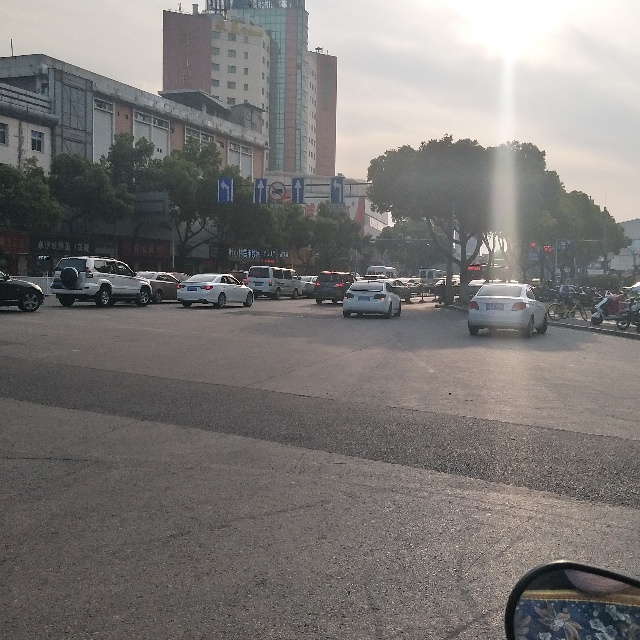left: (327, 173, 345, 205), (216, 177, 235, 204)
straight: (250, 179, 270, 205), (292, 177, 307, 206)
